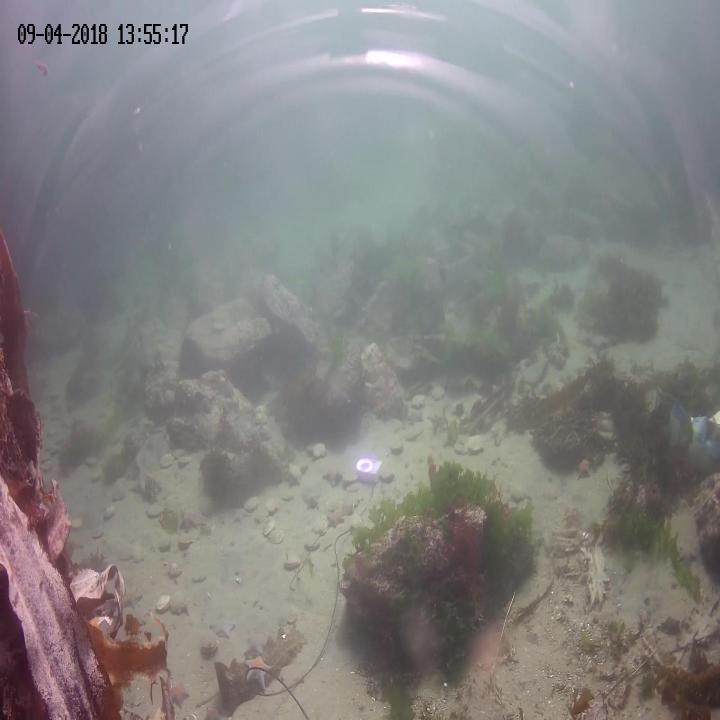scallop: (198, 634, 219, 656), (167, 592, 186, 616), (467, 434, 486, 456), (282, 551, 301, 573), (388, 438, 407, 458), (189, 564, 206, 586), (312, 439, 328, 461), (156, 532, 172, 554), (427, 383, 444, 403), (305, 534, 322, 554), (154, 595, 171, 613), (146, 501, 165, 517), (244, 494, 259, 514), (411, 394, 427, 412), (177, 536, 193, 554), (262, 519, 275, 541), (131, 546, 145, 566), (159, 452, 176, 468), (268, 530, 284, 546), (379, 466, 396, 481), (70, 513, 82, 533), (166, 564, 182, 578), (177, 455, 191, 470), (92, 528, 106, 540), (105, 506, 114, 520)
starfish: (244, 653, 271, 690), (167, 675, 192, 711), (325, 506, 344, 534), (321, 463, 343, 487), (212, 620, 236, 640), (301, 488, 320, 512), (576, 454, 591, 482)
